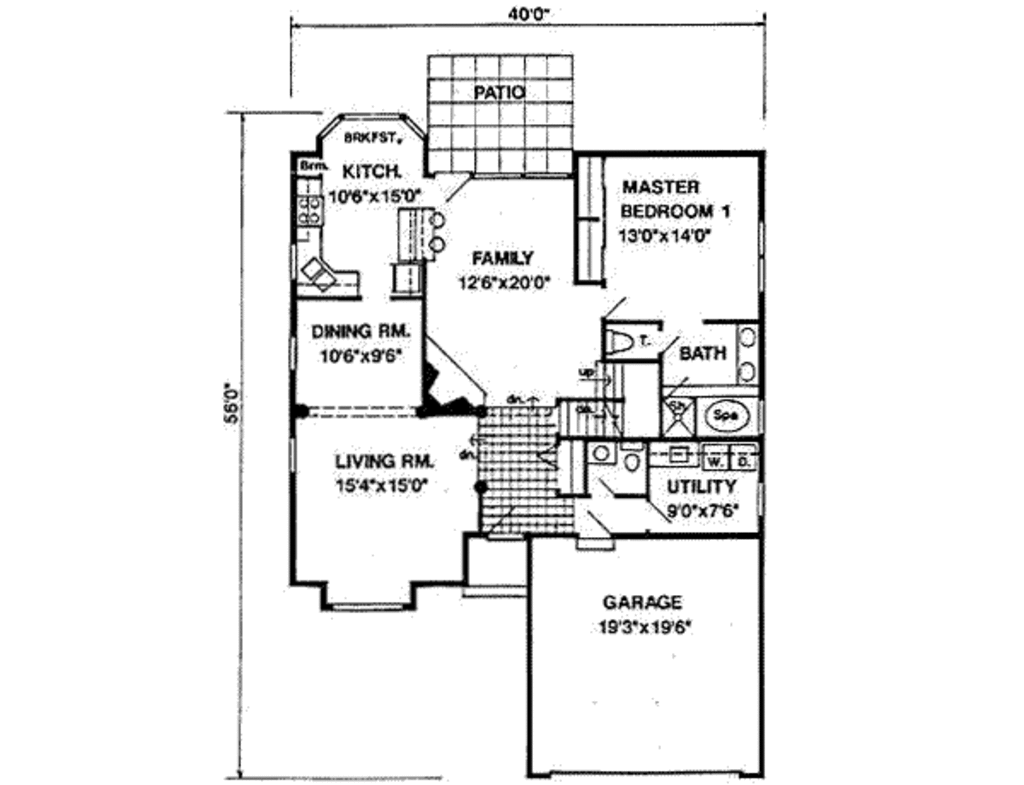kitchen_bar: (379, 194, 459, 261)
large_sink: (594, 316, 639, 360), (618, 440, 645, 483)
small_sink: (733, 323, 761, 389), (589, 441, 623, 469)
twin_sink: (293, 250, 349, 300)
window: (314, 108, 427, 138), (326, 599, 411, 613), (754, 221, 767, 299), (575, 533, 615, 551), (490, 534, 528, 552), (288, 435, 301, 477), (287, 333, 300, 371)
